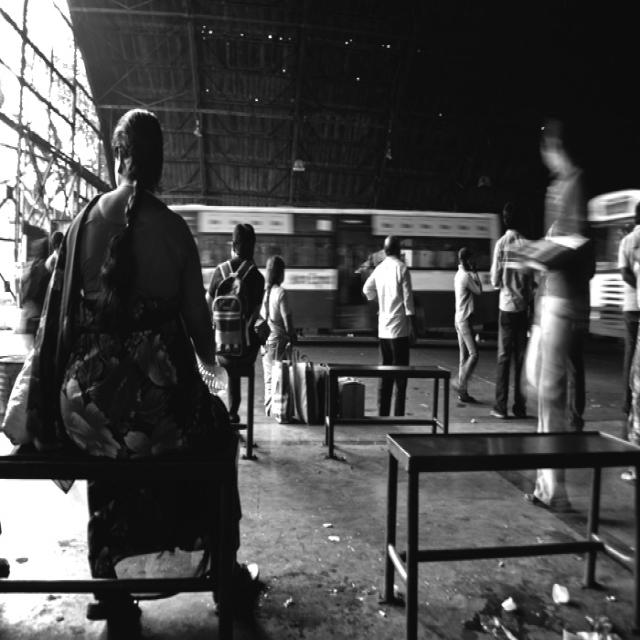body: (26, 105, 262, 621), (499, 117, 595, 520), (539, 182, 597, 436), (203, 220, 267, 427), (351, 230, 414, 422), (488, 198, 532, 420), (362, 235, 415, 418), (15, 210, 70, 345), (447, 239, 487, 409), (257, 252, 297, 419), (615, 199, 640, 422), (629, 218, 639, 451)
